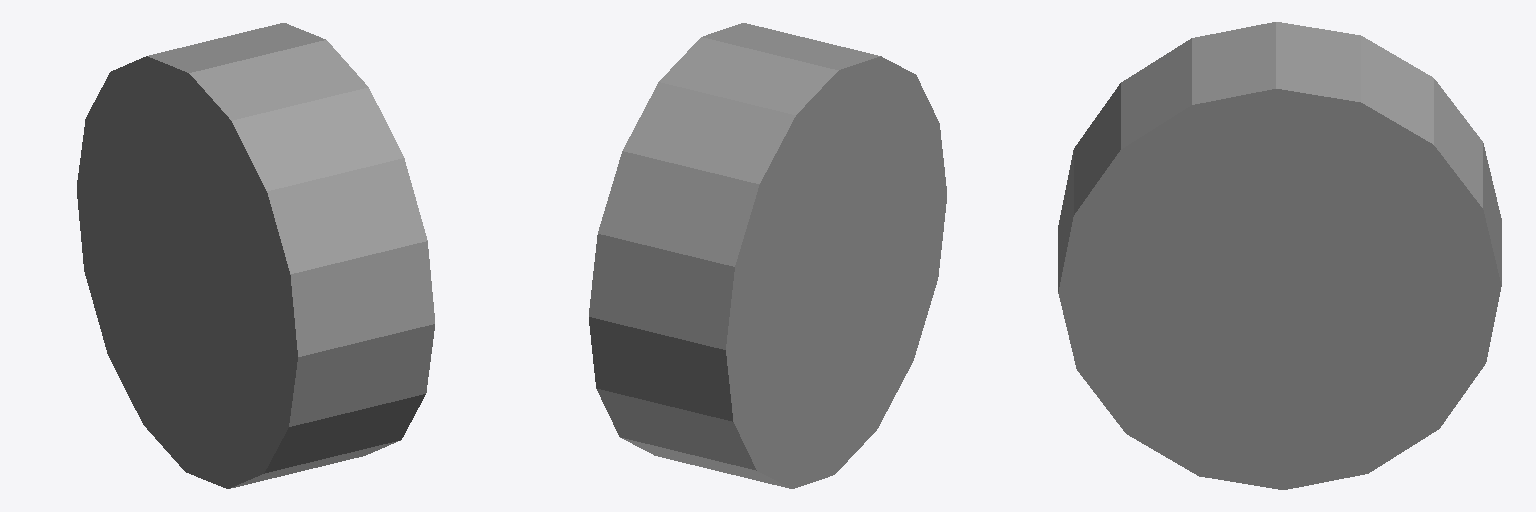
File: Carro_Llanta01.obj
The picture shows the model from 3 angles: view 1: azimuth 30°, elevation 25°; view 2: azimuth 150°, elevation 25°; view 3: azimuth 270°, elevation 25°; orthographic projection.
Parts seen in each view (by area): view 1: Llanta_01; view 2: Llanta_01; view 3: Llanta_01.
Boxes of the visible parts, x1=… form: Llanta_01: x1=77, y1=23, x2=434, y2=488; Llanta_01: x1=589, y1=23, x2=946, y2=488; Llanta_01: x1=1058, y1=22, x2=1501, y2=489.
Bounding box in the file's own units: 9.96 × 27.84 × 27.84.